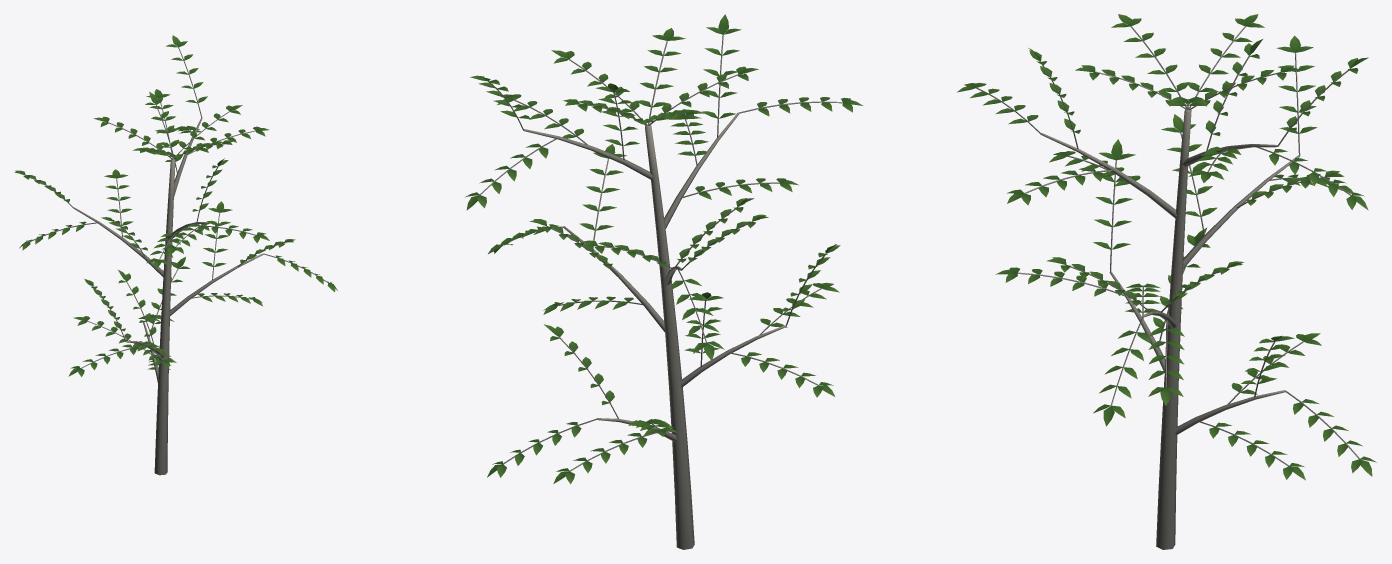
Rendered from rowan.glb.
3 views of the same model, side by side, from view 1: azimuth 30°, elevation 25°; view 2: azimuth 150°, elevation 25°; view 3: azimuth 270°, elevation 25° (orthographic). The views are drawn at different scales.
Parts seen in each view (by area): view 1: rowan; view 2: rowan; view 3: rowan.
Boxes of the visible parts, x1,y1,x2,y2 form: rowan: (14, 35, 337, 475); rowan: (465, 14, 862, 549); rowan: (957, 14, 1376, 549).
Size of the model in its own units: 1.35 by 1.82 by 1.27.
1 material, 1 textured.
